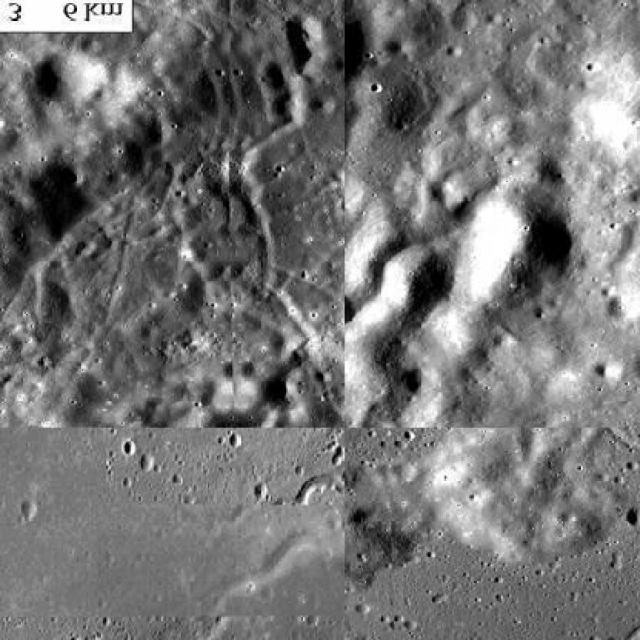rille: (98, 22, 324, 426), (344, 428, 638, 638), (344, 179, 504, 426), (291, 468, 343, 514)
